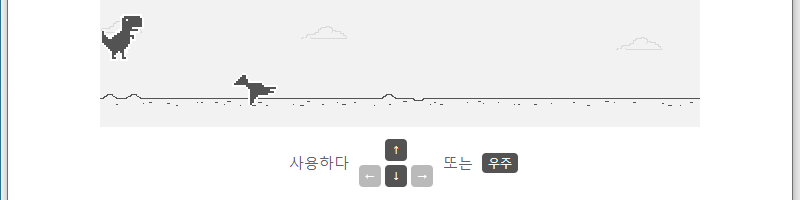dinosaur: (100, 15, 144, 61)
obstacle: (232, 72, 277, 104)
